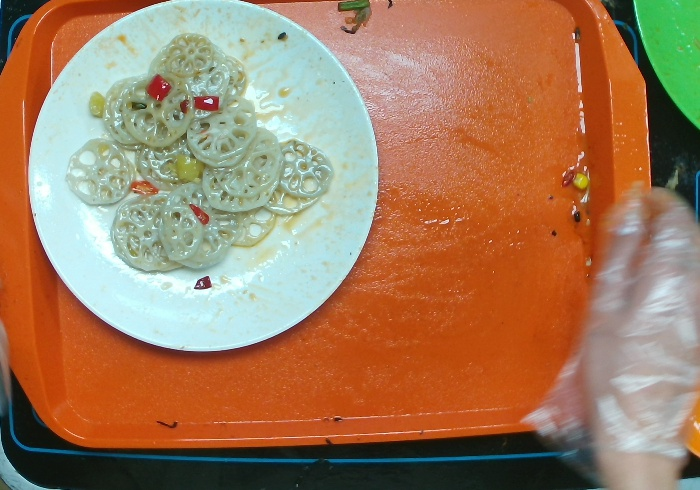HZYJPL-Bai_Se_Yuan_Pan: (15, 1, 421, 393)
